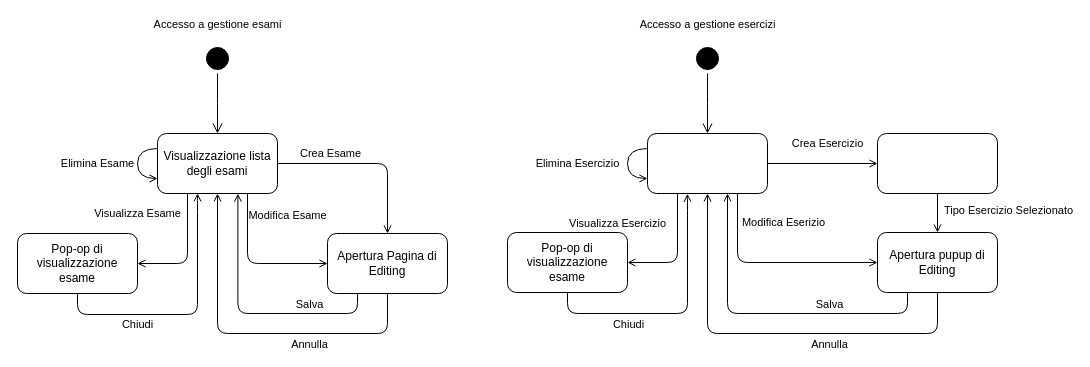
The diagram is 1090 pixels wide and 367 high, and some of its shapes have lost their labels. The centre of each missing label's shape, as x and y in pixels:
Apertura visualizzazione lista degli esercizi: (x=707, y=163)
Popup selezione esercizio: (x=937, y=163)
